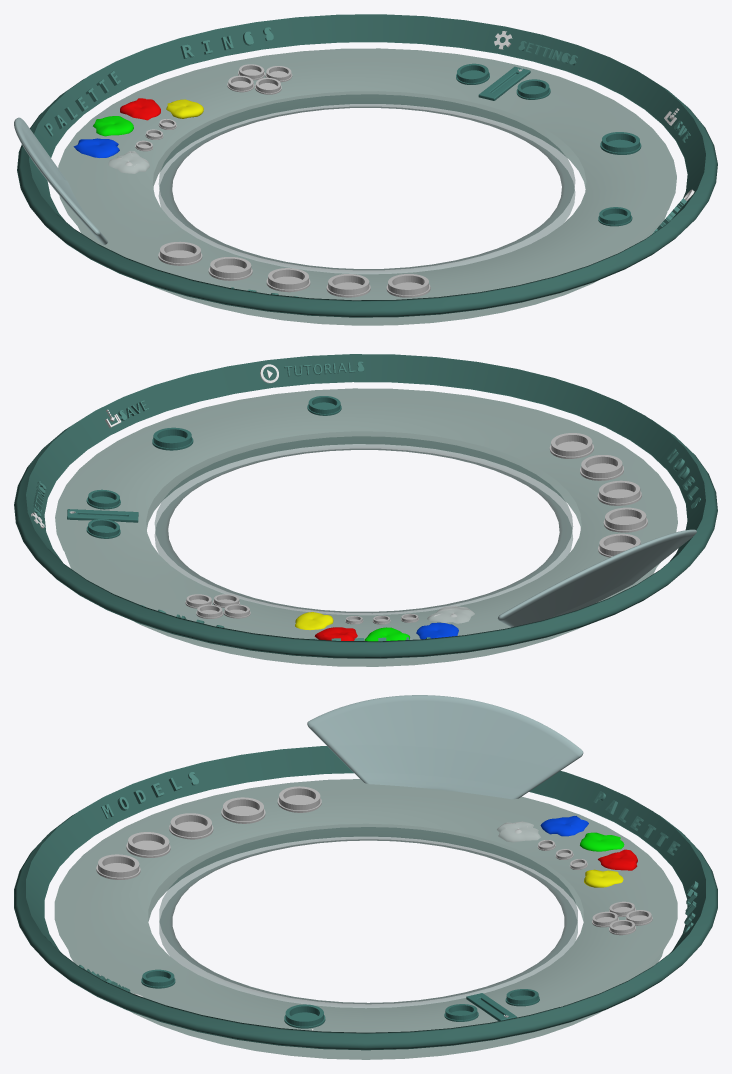
The model's file is ControlRingv2.fbx.
3 views of the same model, one above another, from view 1: azimuth 30°, elevation 25°; view 2: azimuth 150°, elevation 25°; view 3: azimuth 270°, elevation 25° (orthographic).
Parts seen in each view (by area): view 1: ControlRing_Middle, ControlRing_Outer, ControlRing_Inner, ModelPanel, ButtonBase_Models_5, ButtonBase_Models_4, ButtonBase_Models_3, ButtonBase_Models_1, ButtonBase_Models_2, ButtonBase_Save, Volume_Slide_Base, Paint_Blob_Blue (+9 smaller); view 2: ControlRing_Middle, ControlRing_Outer, ControlRing_Inner, ModelPanel, ButtonBase_Models_1, ButtonBase_Models_2, ButtonBase_Models_4, ButtonBase_Models_3, ButtonBase_Save, Volume_Slide_Base, ButtonBase_Models_5, Paint_Blob_Changeable (+6 smaller); view 3: ControlRing_Middle, ControlRing_Outer, ModelPanel, ControlRing_Inner, ButtonBase_Models_4, ButtonBase_Models_5, ButtonBase_Models_3, ButtonBase_Models_2, ButtonBase_Models_1, ButtonBase_Save, Paint_Blob_Blue, Paint_Blob_Changeable (+6 smaller).
Boxes of the visible parts, box(x1,y1,x2,y2) form: ControlRing_Middle: box(58, 48, 676, 325); ControlRing_Outer: box(17, 14, 717, 317); ControlRing_Inner: box(159, 94, 575, 273); ModelPanel: box(14, 117, 108, 244); ButtonBase_Models_5: box(158, 241, 202, 265); ButtonBase_Models_4: box(208, 257, 252, 280); ButtonBase_Models_3: box(266, 268, 310, 292); ButtonBase_Models_1: box(386, 274, 430, 297); ButtonBase_Models_2: box(326, 274, 370, 297); ButtonBase_Save: box(600, 132, 641, 154); Volume_Slide_Base: box(478, 66, 530, 100); Paint_Blob_Blue: box(73, 138, 119, 157); ControlRing_Middle: box(55, 388, 677, 666); ControlRing_Outer: box(14, 354, 717, 658); ControlRing_Inner: box(155, 436, 572, 614); ModelPanel: box(497, 529, 696, 627); ButtonBase_Models_1: box(549, 433, 593, 458); ButtonBase_Models_2: box(580, 455, 623, 480); ButtonBase_Models_4: box(603, 507, 647, 532); ButtonBase_Models_3: box(597, 480, 641, 505); ButtonBase_Save: box(152, 427, 193, 450); Volume_Slide_Base: box(67, 509, 138, 522); ButtonBase_Models_5: box(598, 533, 640, 557); Paint_Blob_Changeable: box(427, 605, 474, 623); ControlRing_Middle: box(54, 779, 677, 1059); ControlRing_Outer: box(14, 746, 717, 1050); ModelPanel: box(307, 695, 583, 799); ControlRing_Inner: box(159, 827, 577, 1007); ButtonBase_Models_4: box(221, 797, 265, 823); ButtonBase_Models_5: box(277, 786, 321, 812); ButtonBase_Models_3: box(169, 813, 213, 839); ButtonBase_Models_2: box(126, 832, 170, 857); ButtonBase_Models_1: box(96, 854, 140, 879); ButtonBase_Save: box(284, 1004, 325, 1028); Paint_Blob_Blue: box(540, 816, 588, 836); Paint_Blob_Changeable: box(497, 821, 540, 842).
Size of the model in its own units: 157 by 22.07 by 156.
